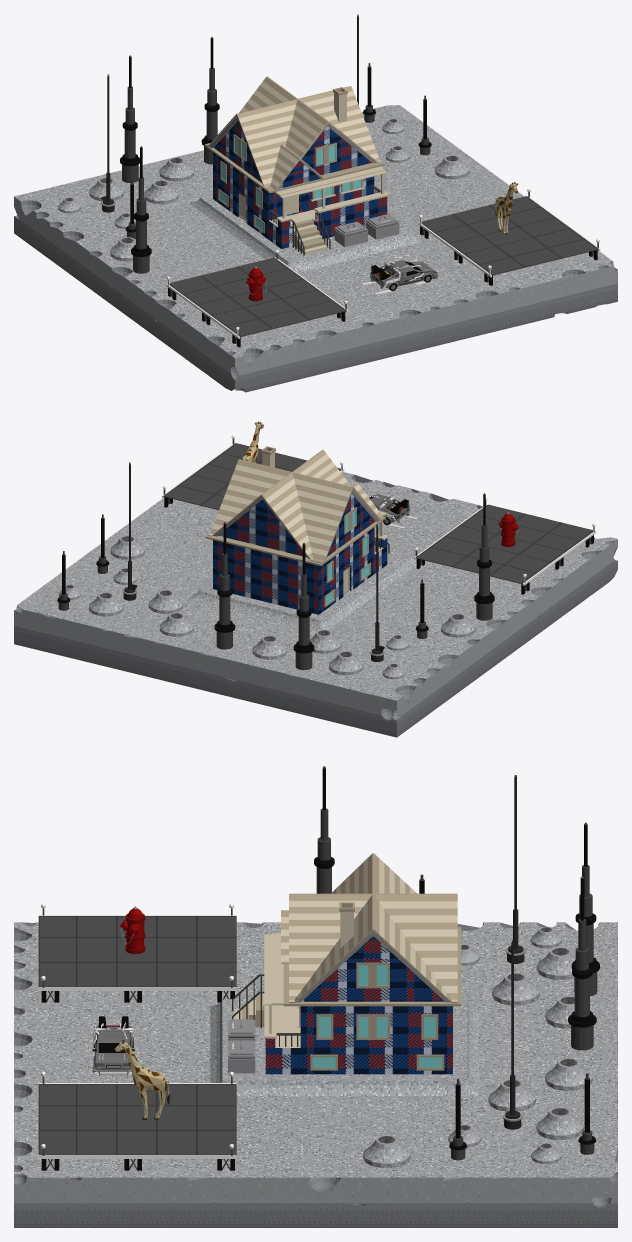
3 renders of one model, top to bottom at view 1: azimuth 30°, elevation 25°; view 2: azimuth 150°, elevation 25°; view 3: azimuth 270°, elevation 25°, orthographic. The views are drawn at different scales.
Parts seen in each view (by area): view 1: Cube.027, Cube.171, Cube.026, Cube.025, Cube.028, VEHICLES_DELOREAN, Cylinder.020, Cylinder.021, Cylinder.017, Cube.029, Cube.030, Cylinder.033 (+6 smaller); view 2: Cube.027, Cube.171, Cube.025, Cube.028, Cube.026, Cylinder.020, Cylinder.017, Cylinder.021, VEHICLES_DELOREAN, Cylinder.027, Cylinder.029, Cylinder.030 (+8 smaller); view 3: Cube.027, Cube.171, Cube.026, Cube.025, Cube.028, Cylinder.017, VEHICLES_DELOREAN, ANIMAL_JIRAFA, Cylinder.020, Cylinder.021, Cylinder.033, Cylinder.031 (+11 smaller).
Boxes of the visible parts, box(x1,y1,x2,y2) form: Cube.027: box(14, 105, 617, 392); Cube.171: box(204, 76, 389, 255); Cube.026: box(418, 188, 600, 285); Cube.025: box(166, 250, 348, 347); Cube.028: box(190, 194, 422, 272); VEHICLES_DELOREAN: box(360, 254, 438, 294); Cylinder.020: box(120, 55, 139, 182); Cylinder.021: box(131, 146, 151, 273); Cylinder.017: box(201, 37, 219, 164); Cube.029: box(334, 221, 367, 247); Cube.030: box(366, 214, 399, 239); Cylinder.033: box(435, 155, 469, 179); Cube.027: box(14, 472, 617, 737); Cube.171: box(205, 446, 389, 614); Cube.025: box(414, 497, 596, 594); Cube.028: box(188, 549, 416, 631); Cube.026: box(162, 435, 344, 509); Cylinder.020: box(293, 542, 314, 670); Cylinder.017: box(214, 522, 235, 649); Cylinder.021: box(474, 493, 494, 620); VEHICLES_DELOREAN: box(368, 489, 417, 528); Cylinder.027: box(252, 635, 286, 659); Cylinder.029: box(159, 612, 193, 636); Cylinder.030: box(148, 589, 183, 613); Cube.027: box(14, 922, 617, 1227); Cube.171: box(232, 853, 461, 1074); Cube.026: box(38, 1071, 236, 1170); Cube.025: box(38, 903, 236, 1002); Cube.028: box(210, 999, 478, 1095); Cylinder.017: box(568, 876, 596, 1050); VEHICLES_DELOREAN: box(85, 1016, 139, 1075); ANIMAL_JIRAFA: box(114, 1040, 169, 1119); Cylinder.020: box(571, 822, 599, 996); Cylinder.021: box(314, 766, 334, 893); Cylinder.033: box(363, 1135, 410, 1167); Cylinder.031: box(536, 1107, 583, 1139).
Size of the model in its own units: 4000 by 1777 by 4000.
40 materials, 5 textured.
